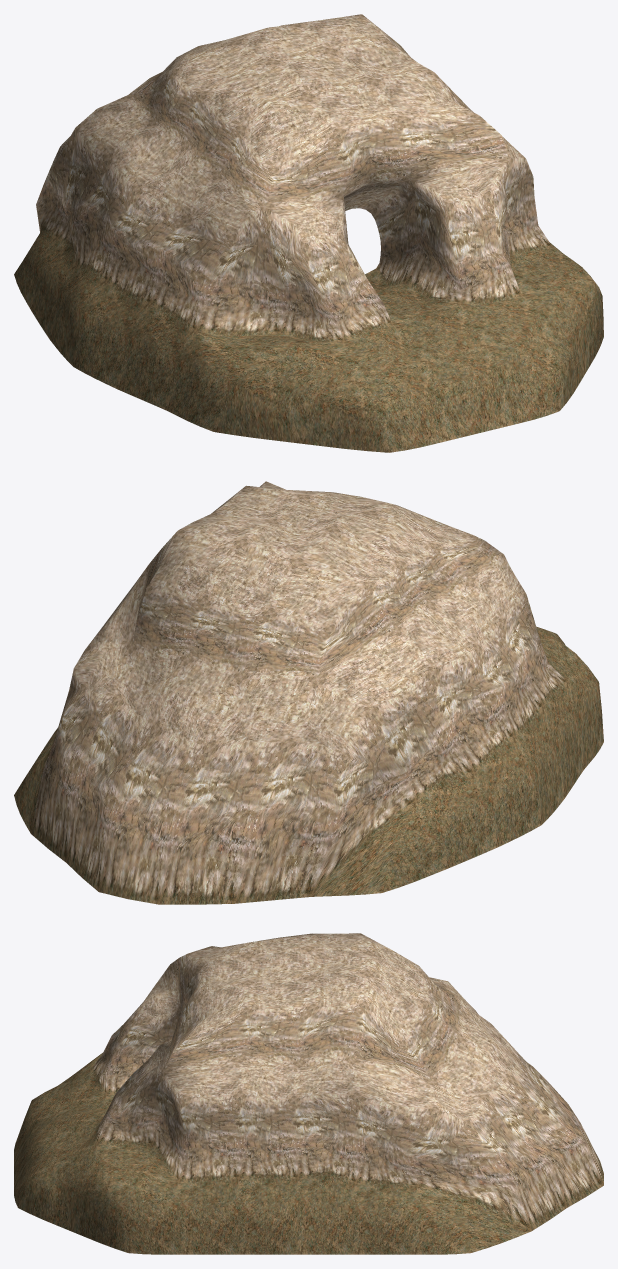
File: thm_all_cave_flatland_s01_r0_mesh_l0.fbx
3 renders of one model, top to bottom at view 1: azimuth 30°, elevation 25°; view 2: azimuth 150°, elevation 25°; view 3: azimuth 270°, elevation 25°, orthographic. The views are drawn at different scales.
Visible parts, largest first — view 1: mesh_node; view 2: mesh_node; view 3: mesh_node.
Part boxes in pixels (<box>): mesh_node: <box>14,14,603,452</box>; mesh_node: <box>14,481,603,904</box>; mesh_node: <box>14,933,603,1254</box>.
Size of the model in its own units: 56.36 by 31.43 by 78.78.
